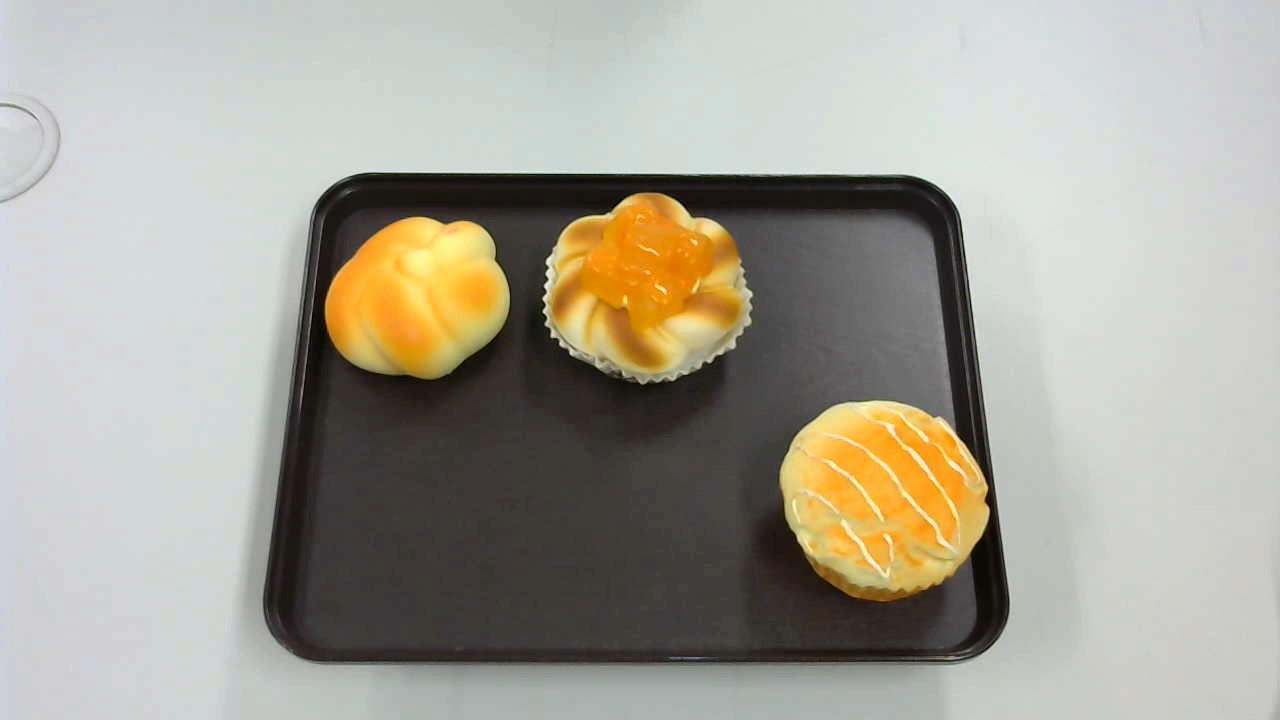croissant: (321, 217, 510, 379)
cupcake: (780, 398, 991, 602)
mango tart: (542, 191, 752, 387)
